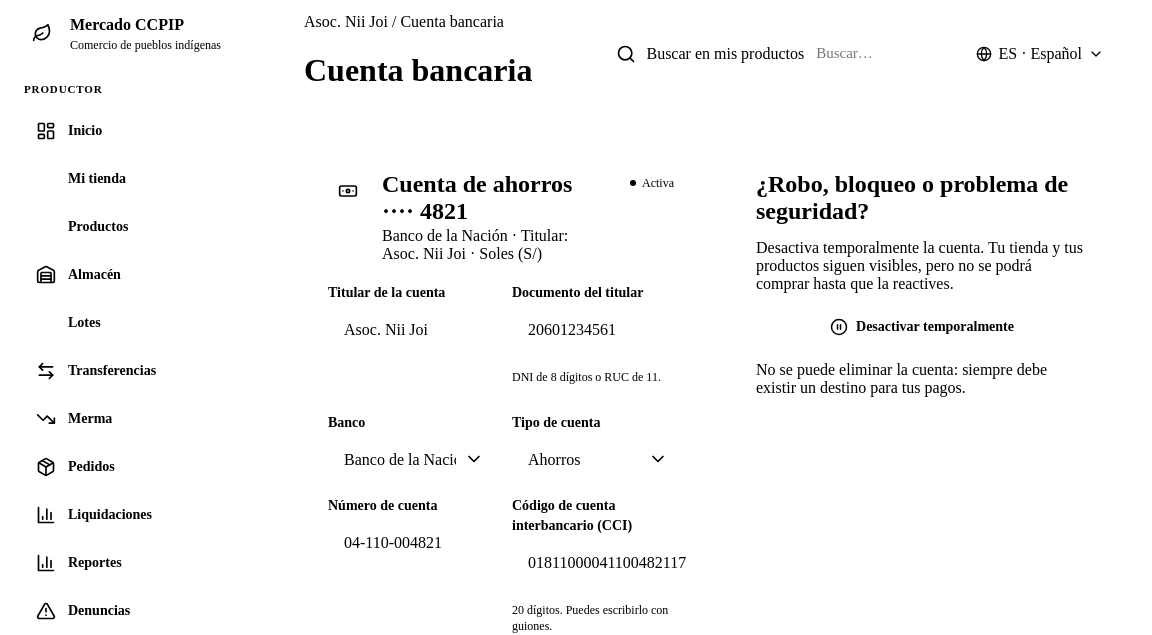
PW-19 Cuenta bancaria del productor (CCPIP-32, CCPIP-274) › muestra la cuenta activa, sin datos de tarjeta, y guarda los cambios
Expected: the heading "Cuenta de ahorros ···· 4821" is shown, [382,171,572,224]
Expected: the text "Activa" is shown, [630,176,674,190]
Step 1. Select "Corriente" in the dropdown labelled "Tipo de cuenta" → (598, 459), box [512,439,684,480]
(page scrolled)
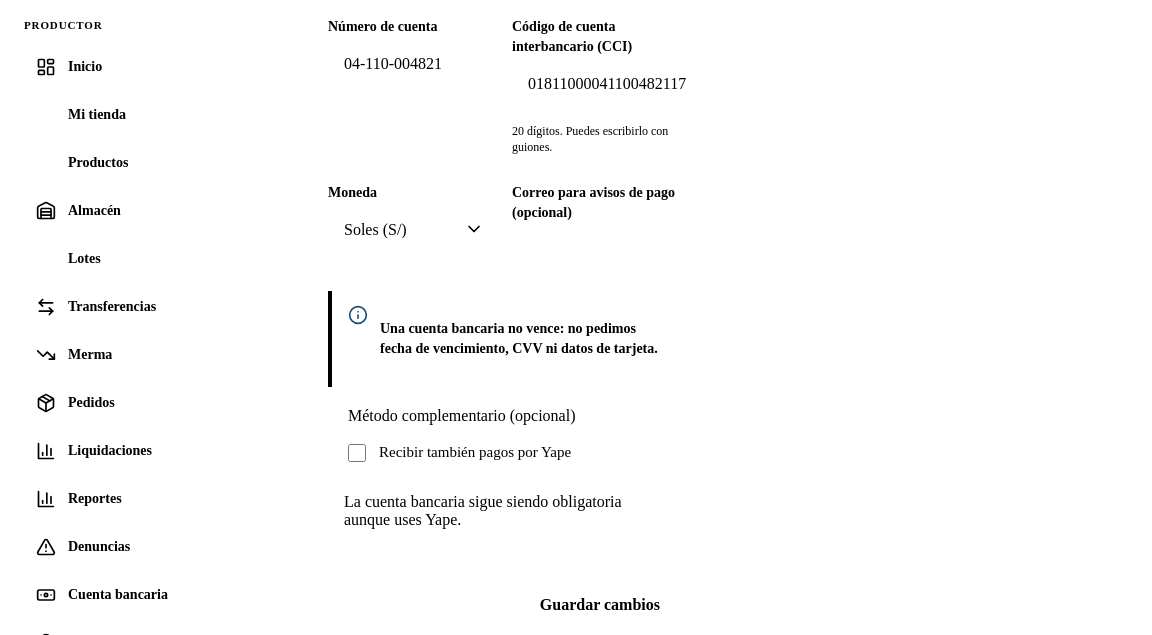
Step 2. Click the button "Guardar cambios" → click(600, 605), box [516,581,684,629]
(page scrolled)
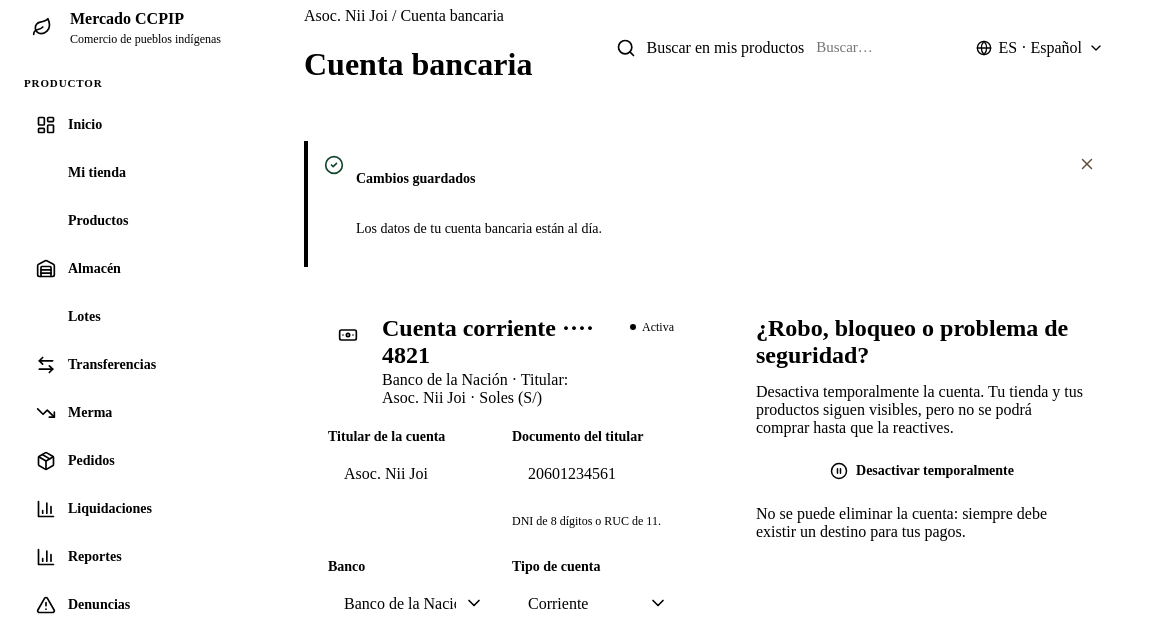
Now the text "Cambios guardados" is shown, box [356,171,475,186]
Now the heading "Cuenta corriente ···· 4821" is shown, box [382,315,606,369]
